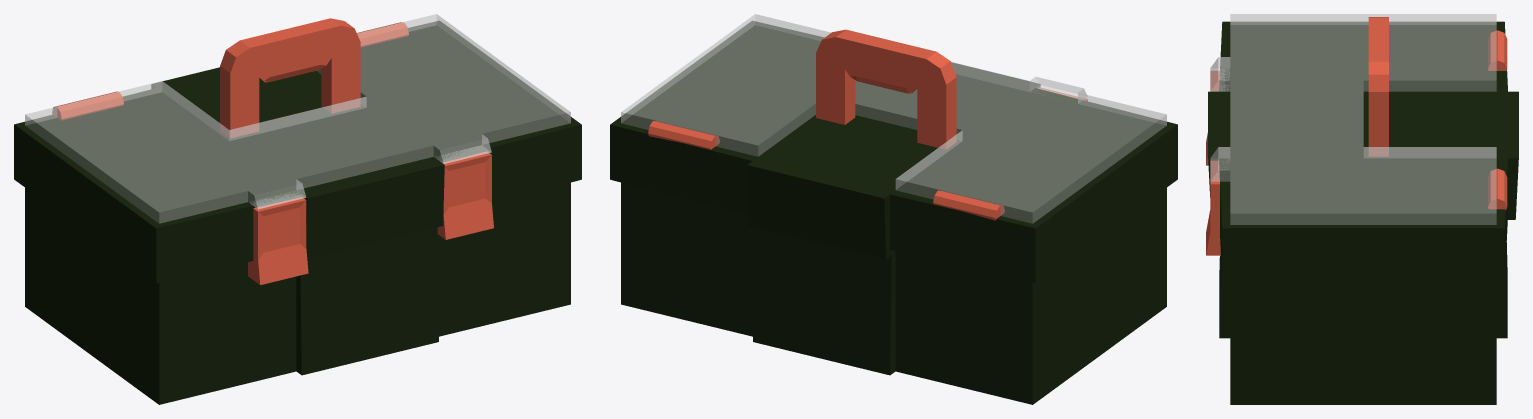
Rendered from ToolBox.fbx.
The picture shows the model from 3 angles, left to right: view 1: azimuth 30°, elevation 25°; view 2: azimuth 150°, elevation 25°; view 3: azimuth 270°, elevation 25°; orthographic projection.
Parts seen in each view (by area): view 1: Cube.002, Cube.003; view 2: Cube.002, Cube.003; view 3: Cube.002, Cube.003.
Boxes of the visible parts, <box> form: Cube.002: <box>14,18,581,404</box>; Cube.003: <box>25,14,570,285</box>; Cube.002: <box>610,21,1177,404</box>; Cube.003: <box>621,14,1166,223</box>; Cube.002: <box>1208,17,1518,404</box>; Cube.003: <box>1206,14,1507,255</box>.
Bounding box in the file's own units: 40.32 × 24.17 × 25.82.
